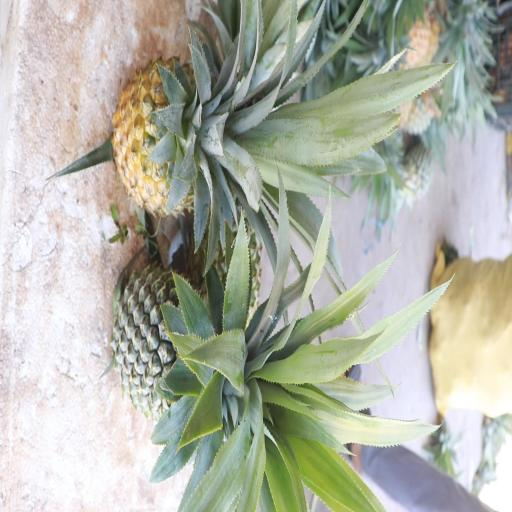Pineapple - v8 v1: (108, 57, 306, 222)
